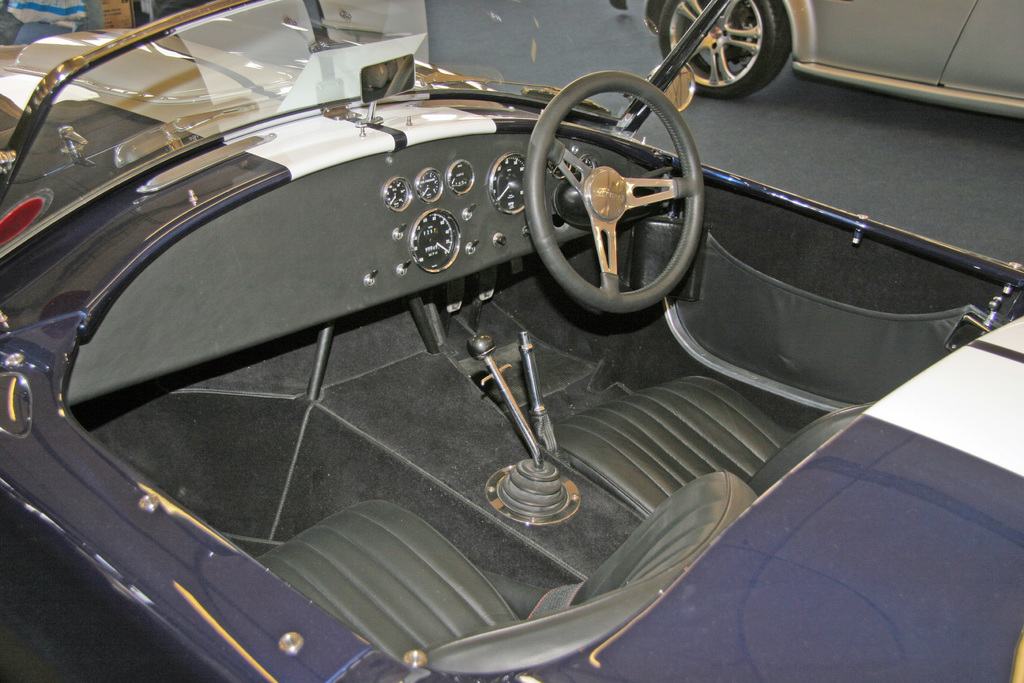Car: (0, 0, 1023, 682), (615, 0, 1023, 120)
